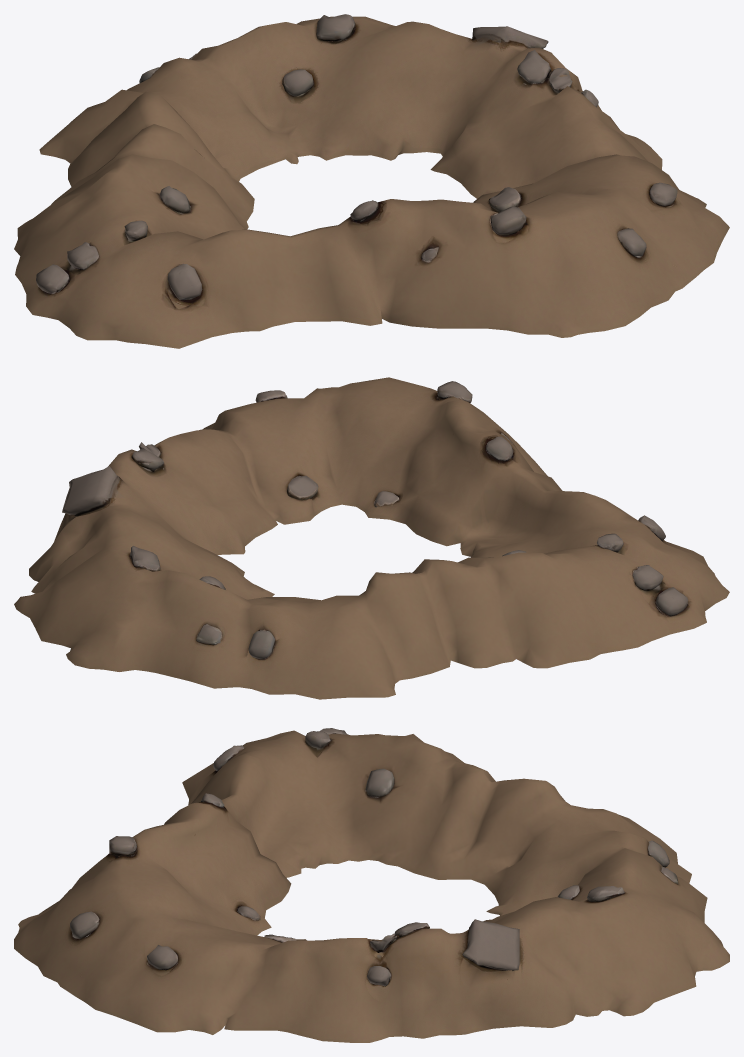
Rendered from shell crater 3d model.glb.
3 renders of one model, top to bottom at view 1: azimuth 30°, elevation 25°; view 2: azimuth 150°, elevation 25°; view 3: azimuth 270°, elevation 25°, orthographic. The views are drawn at different scales.
Parts seen in each view (by area): view 1: tripo_node_3bd4c4fe-3550-439d-b7d4-991fae8305c6; view 2: tripo_node_3bd4c4fe-3550-439d-b7d4-991fae8305c6; view 3: tripo_node_3bd4c4fe-3550-439d-b7d4-991fae8305c6.
Boxes of the visible parts, left/top/right/bottom form: tripo_node_3bd4c4fe-3550-439d-b7d4-991fae8305c6: left=14, top=14, right=729, bottom=348; tripo_node_3bd4c4fe-3550-439d-b7d4-991fae8305c6: left=14, top=377, right=729, bottom=699; tripo_node_3bd4c4fe-3550-439d-b7d4-991fae8305c6: left=14, top=728, right=729, bottom=1042.
Bounding box in the file's own units: 0.9746 × 0.1387 × 0.998.
Materials: 1 (1 with a texture image).
